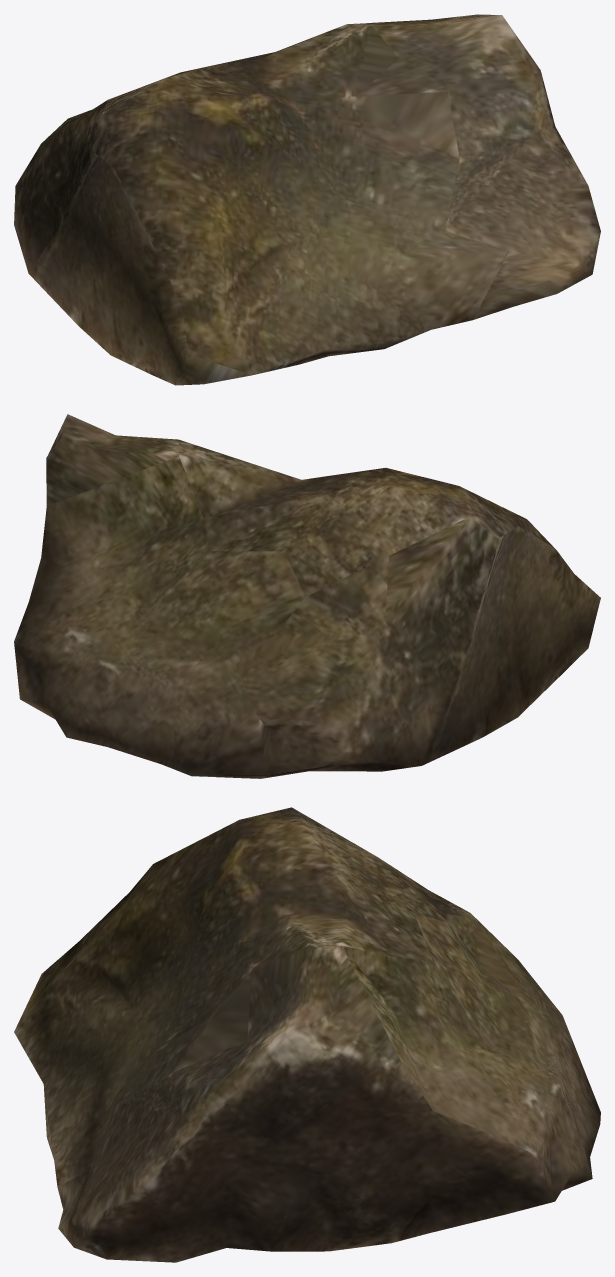
File: SM_Stone_C.fbx
The picture shows the model from 3 angles, top to bottom: view 1: azimuth 30°, elevation 25°; view 2: azimuth 150°, elevation 25°; view 3: azimuth 270°, elevation 25°; orthographic projection. The views are drawn at different scales.
Visible parts, largest first — view 1: SM_Stone_C; view 2: SM_Stone_C; view 3: SM_Stone_C.
Boxes of the visible parts, <box> form: SM_Stone_C: <box>14,14,600,385</box>; SM_Stone_C: <box>14,414,600,778</box>; SM_Stone_C: <box>14,807,600,1262</box>.
Bounding box in the file's own units: 0.26 × 0.1357 × 0.2586.
